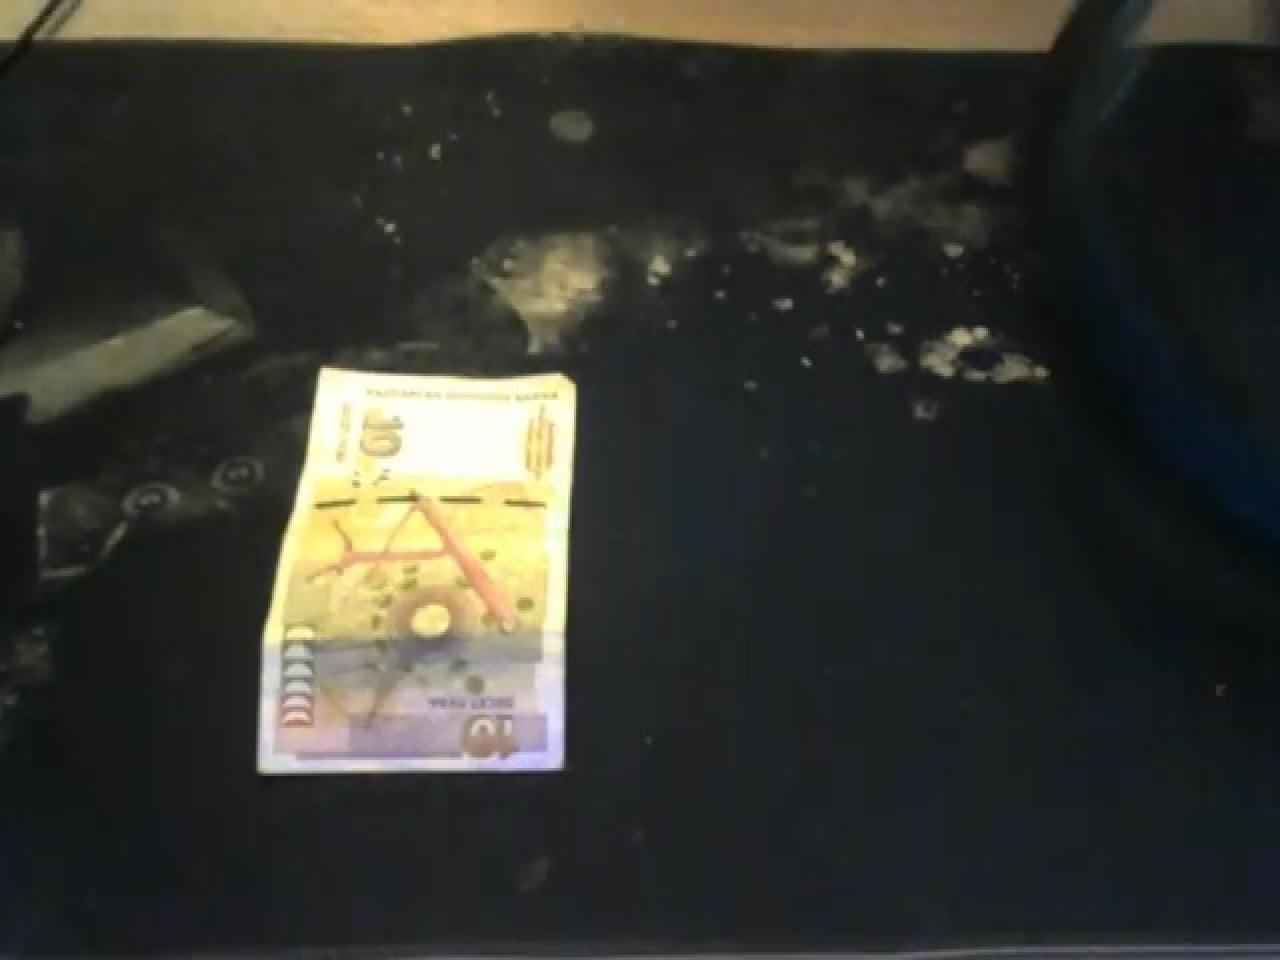10leva: (256, 371, 578, 782)
